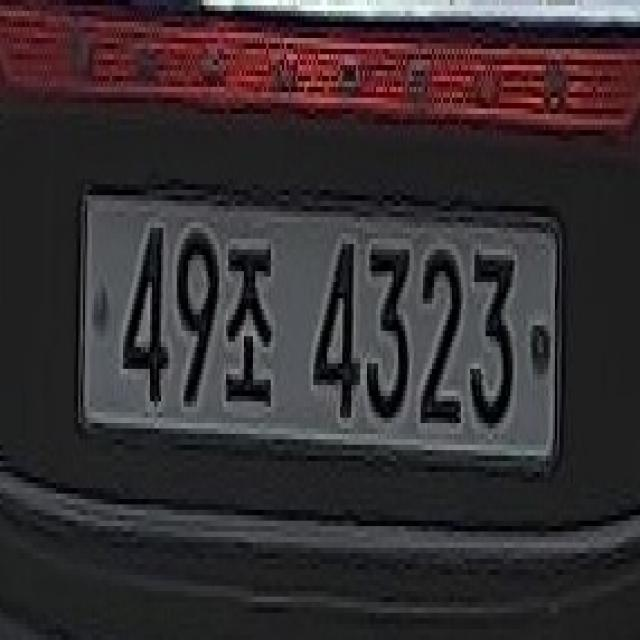2: (421, 241, 465, 442)
3: (470, 244, 520, 441), (366, 226, 414, 429)
4: (307, 220, 363, 437), (122, 217, 172, 412)
9: (175, 199, 220, 423)
jo: (224, 222, 282, 423)
license_plate: (61, 173, 572, 479)
